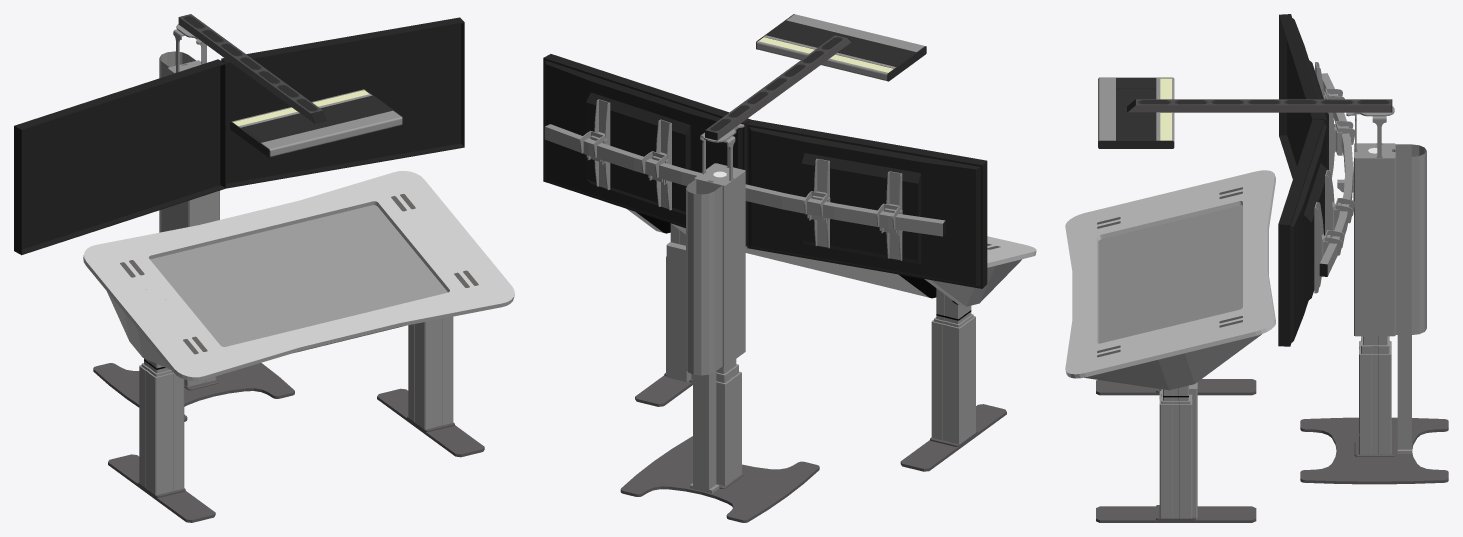
The model's file is dreamdesk.obj.
The picture shows the model from 3 angles, left to right: view 1: azimuth 30°, elevation 25°; view 2: azimuth 150°, elevation 25°; view 3: azimuth 270°, elevation 25°; orthographic projection. The views are drawn at different scales.
Size of the model in its own units: 2.49 by 1.93 by 1.91.
14 materials, 5 textured.
